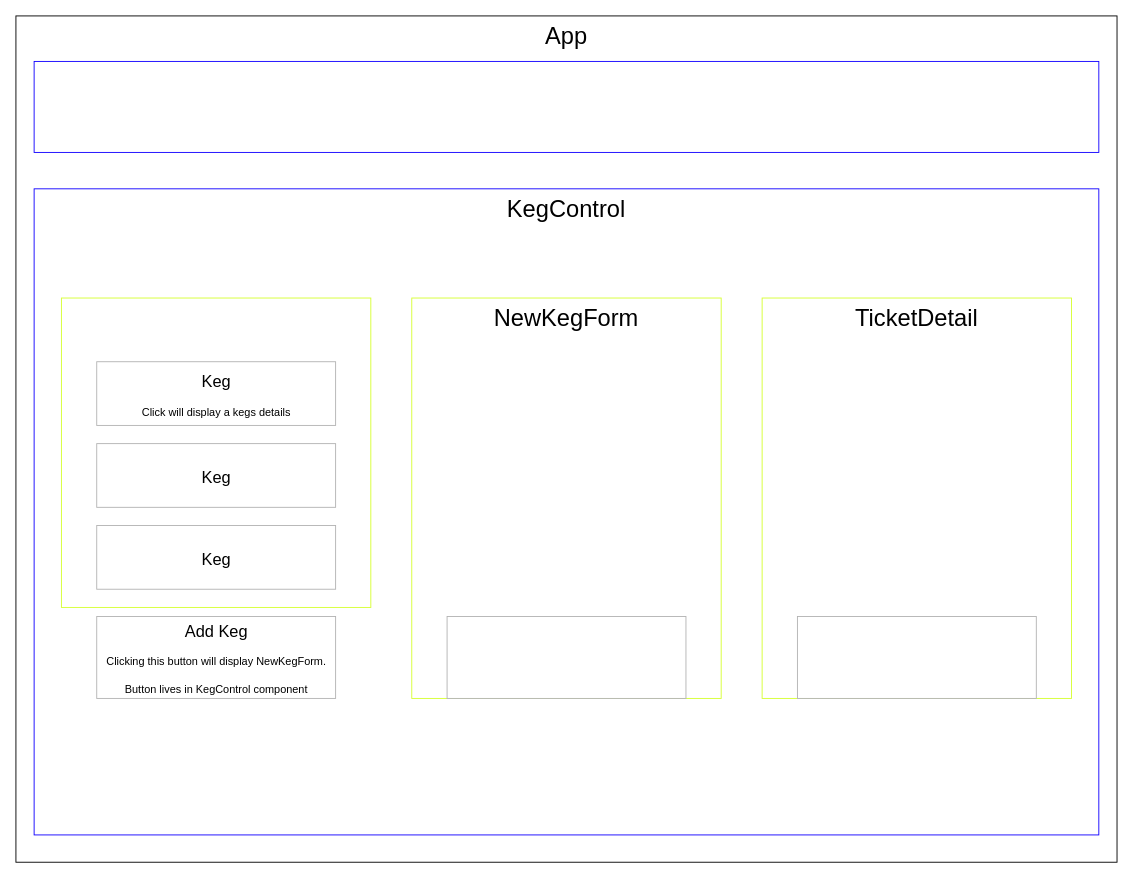
This 1133x878 diagram has some shape labels left out. The box of each missing label's shape, as (x1, y1, x2, y2) in pixels:
Header: (33, 61, 1099, 152)
KegList: (61, 297, 371, 607)
Submit Clicking this button will add a ticket then show the KegList Component: (446, 616, 686, 698)
Update/Delete/Sell Will house buttons for update/delete.: (797, 616, 1036, 698)
